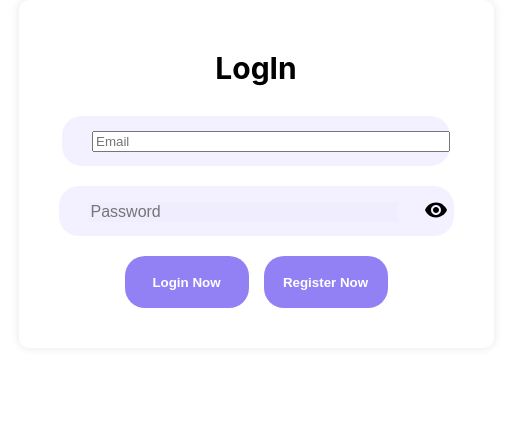
Scenario: Login Component › shows validation errors for empty form submission
Click the button "Login Now": point(186, 282) [124,256,248,308]
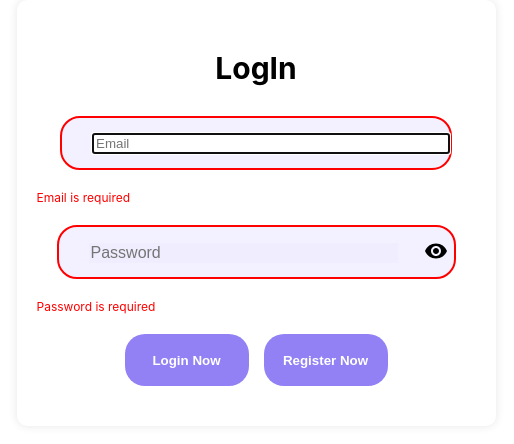
Now the text "Email is required" is shown, box [36,190,130,205]
Now the text "Password is required" is shown, box [36,299,155,314]
